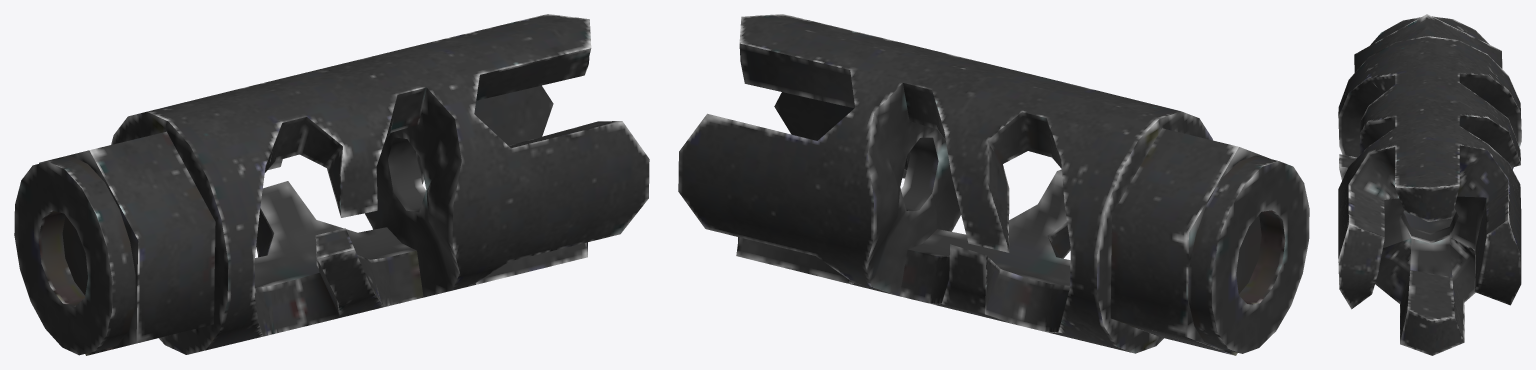
The model's file is ST_Muzzle_Compensater_L.FBX.
3 renders of one model, left to right at view 1: azimuth 30°, elevation 25°; view 2: azimuth 150°, elevation 25°; view 3: azimuth 270°, elevation 25°, orthographic. The views are drawn at different scales.
Visible parts, largest first — view 1: ST_Muzzle_Compensater_L; view 2: ST_Muzzle_Compensater_L; view 3: ST_Muzzle_Compensater_L.
Part boxes in pixels (x1=…): ST_Muzzle_Compensater_L: x1=14, y1=14, x2=649, y2=355; ST_Muzzle_Compensater_L: x1=678, y1=14, x2=1309, y2=355; ST_Muzzle_Compensater_L: x1=1338, y1=14, x2=1521, y2=355.
Bounding box in the file's own units: 7.31 × 3.01 × 2.98.
1 material, 1 textured.
